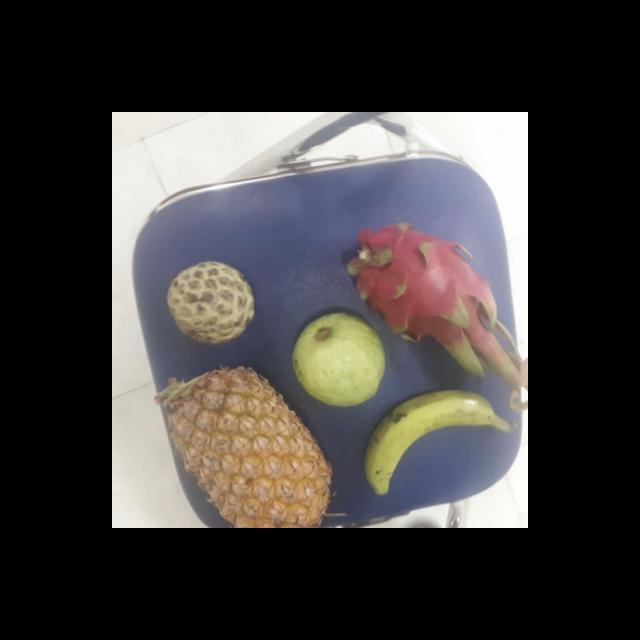Sakya fruit: (168, 262, 258, 343)
guava: (292, 312, 390, 404)
pineapple: (166, 370, 334, 528)
pitaya: (348, 222, 494, 347)
